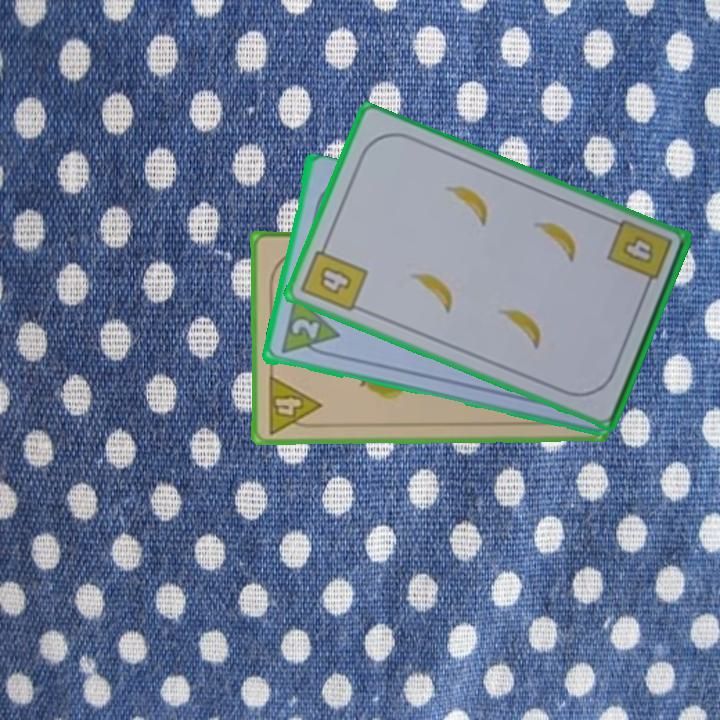2p: (277, 294, 342, 361)
4b: (297, 237, 371, 315), (603, 216, 675, 295)
4p: (264, 372, 324, 437)
